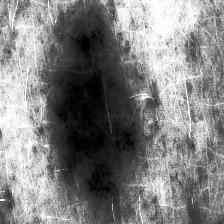Benign Marking or Mole: (48, 20, 143, 194)
